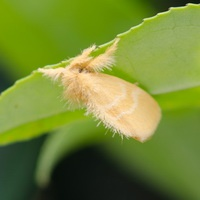insect: (38, 38, 160, 141)
